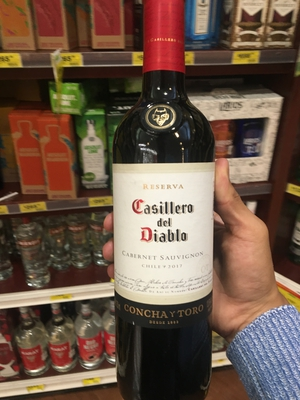casillero del diablo cabernet sauvignon: (108, 10, 221, 389)
